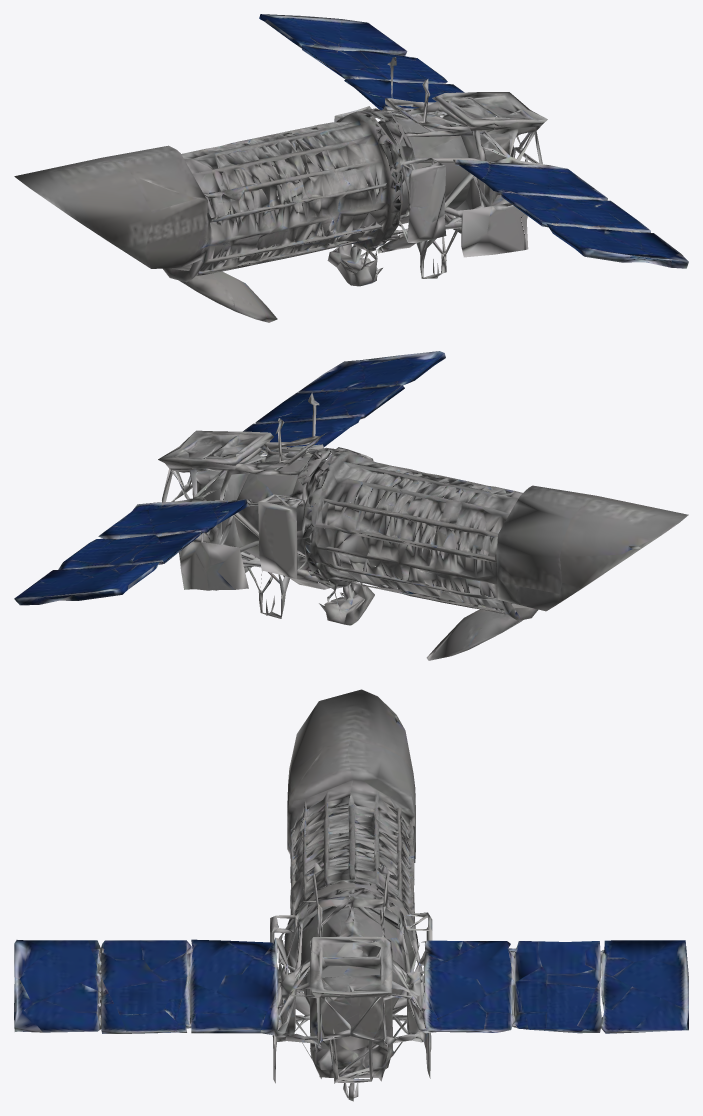
Rendered from spektr_uv-low.glb.
The picture shows the model from 3 angles, top to bottom: view 1: azimuth 30°, elevation 25°; view 2: azimuth 150°, elevation 25°; view 3: azimuth 270°, elevation 25°; orthographic projection. The views are drawn at different scales.
Size of the model in its own units: 1.71 by 0.6957 by 1.9.
Materials: 1 (1 with a texture image).
